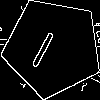I: (28, 22, 62, 69)
